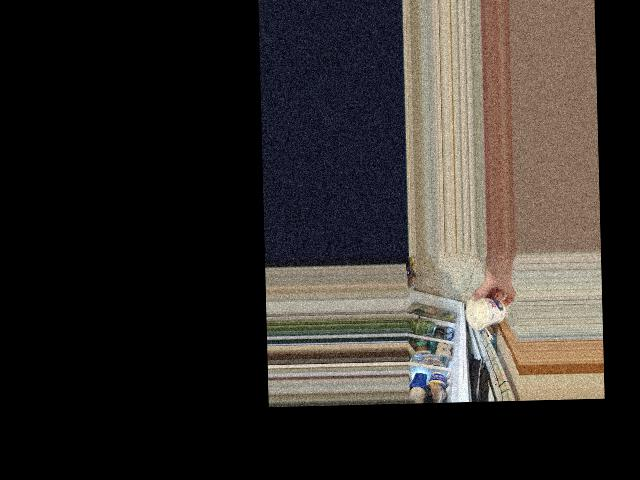cotage: (466, 292, 508, 329)
